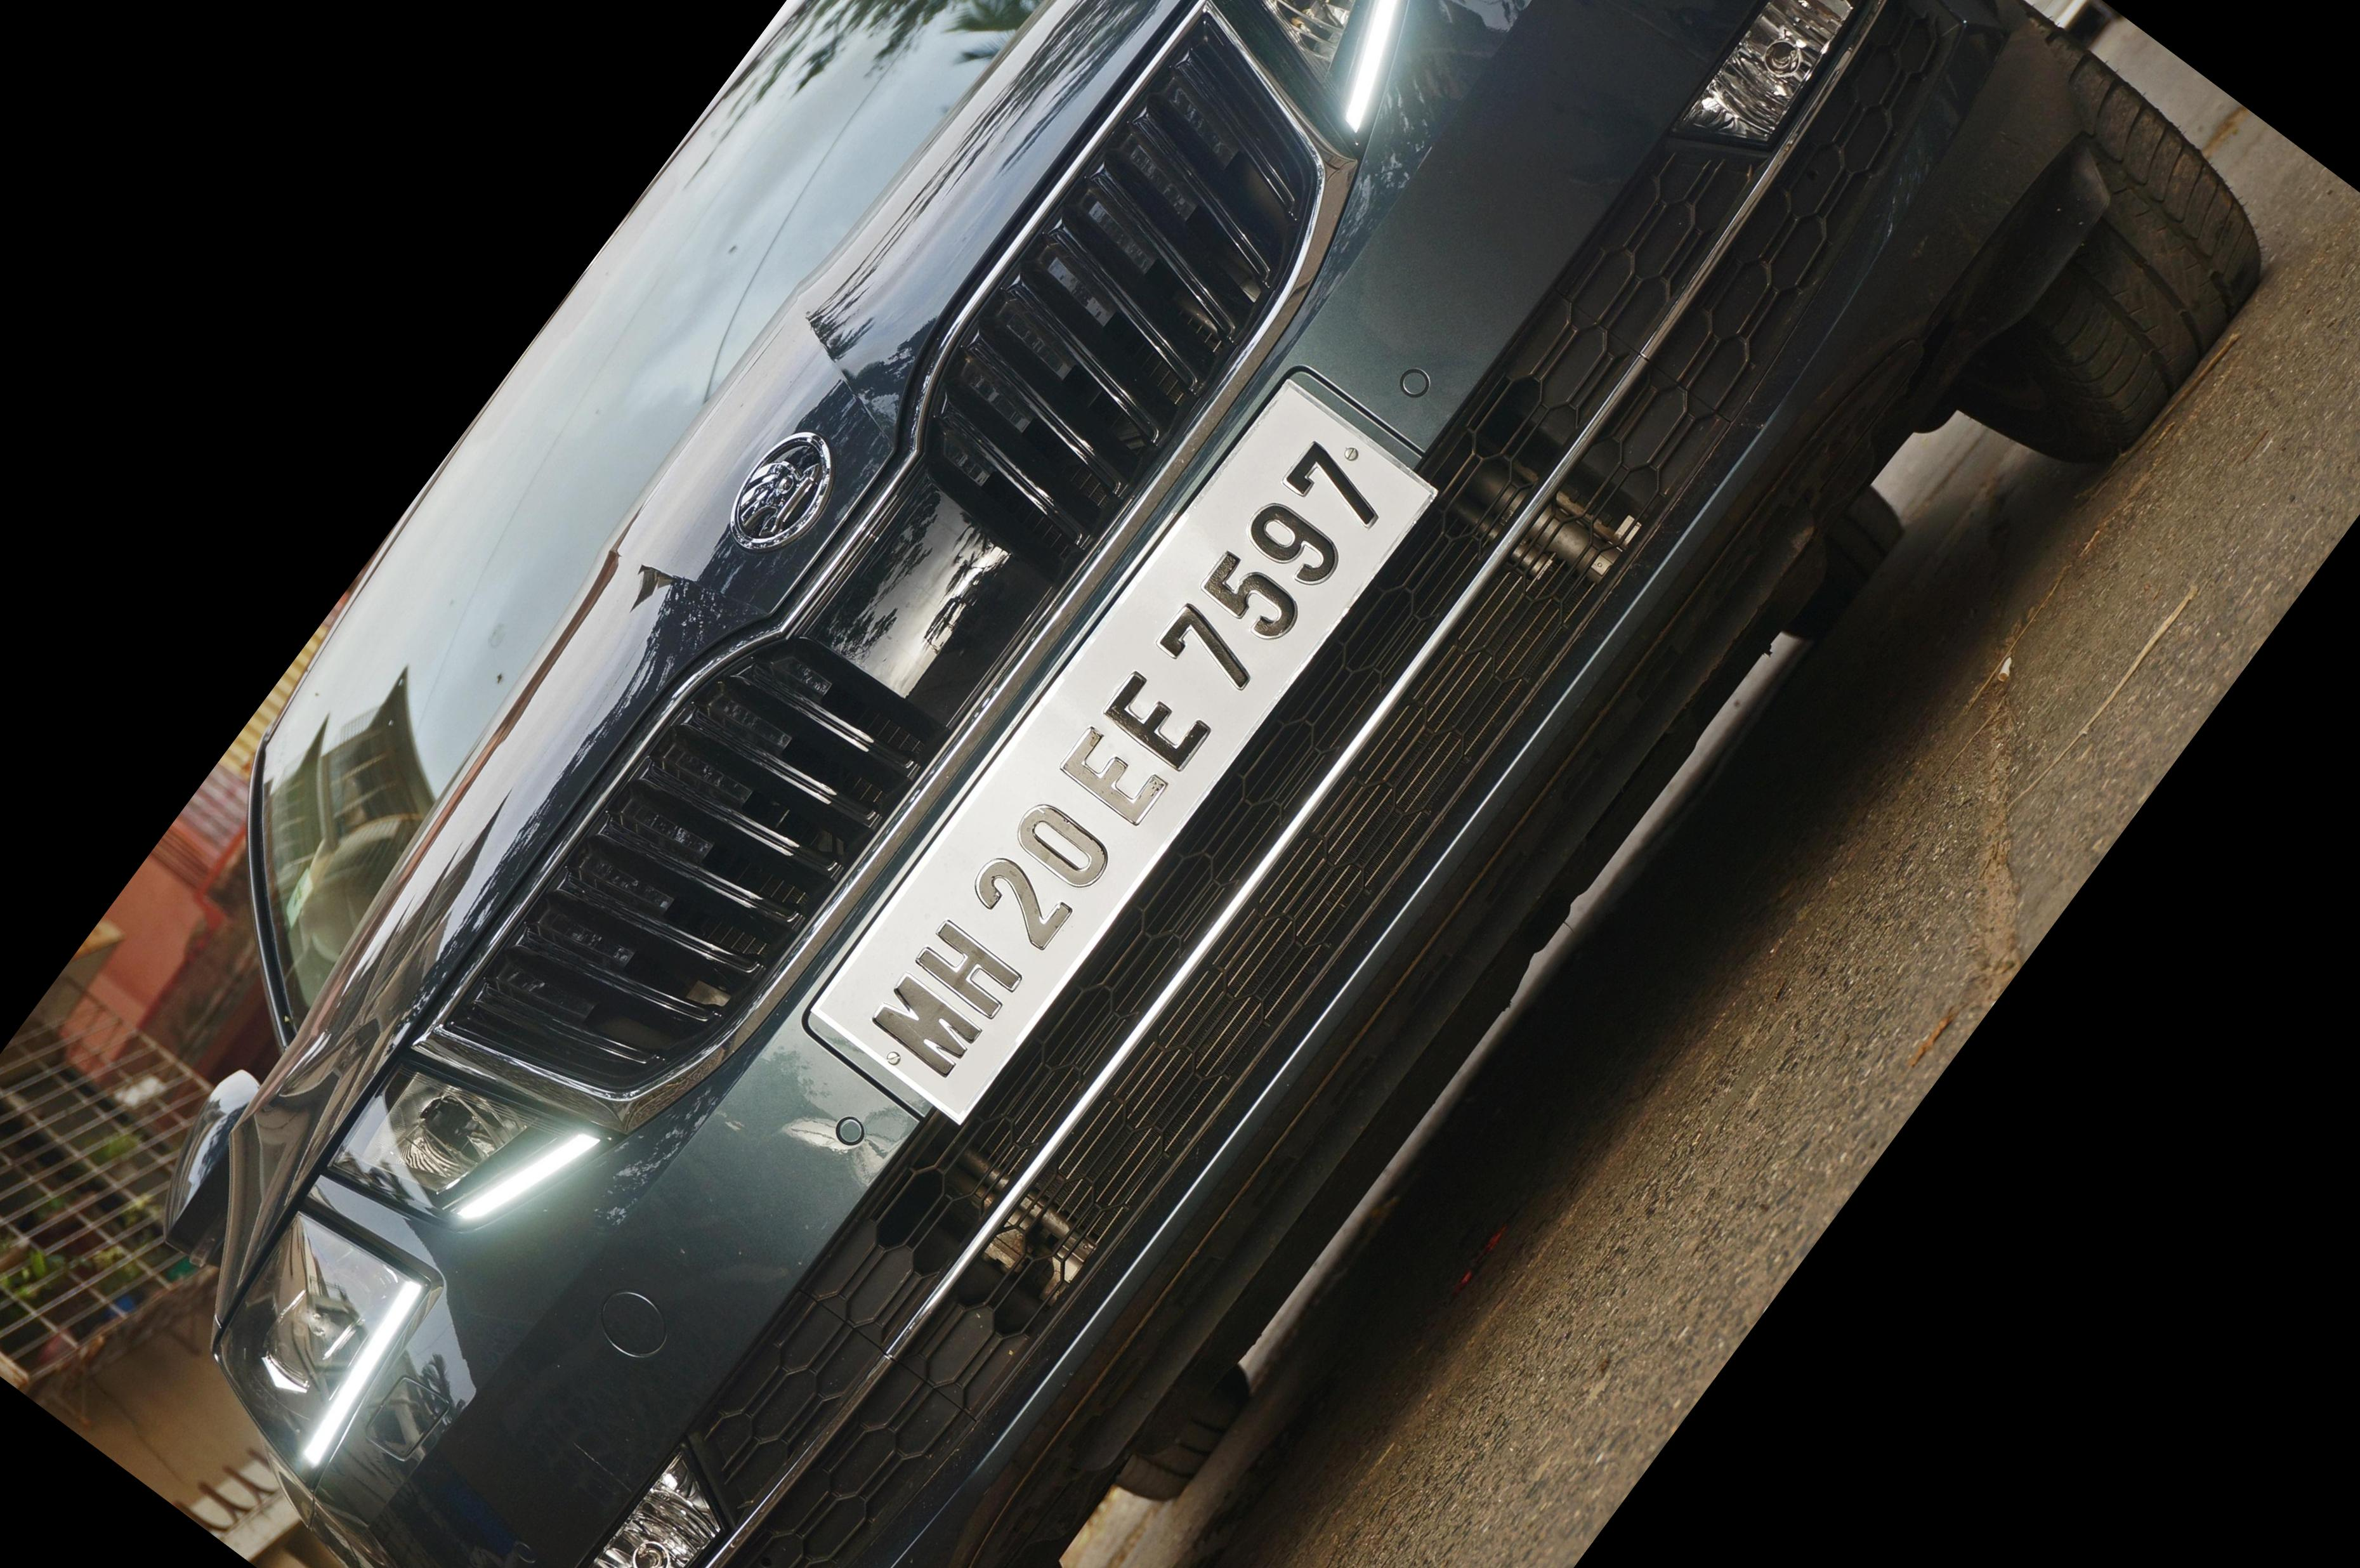plate: (787, 363, 1478, 1172)
